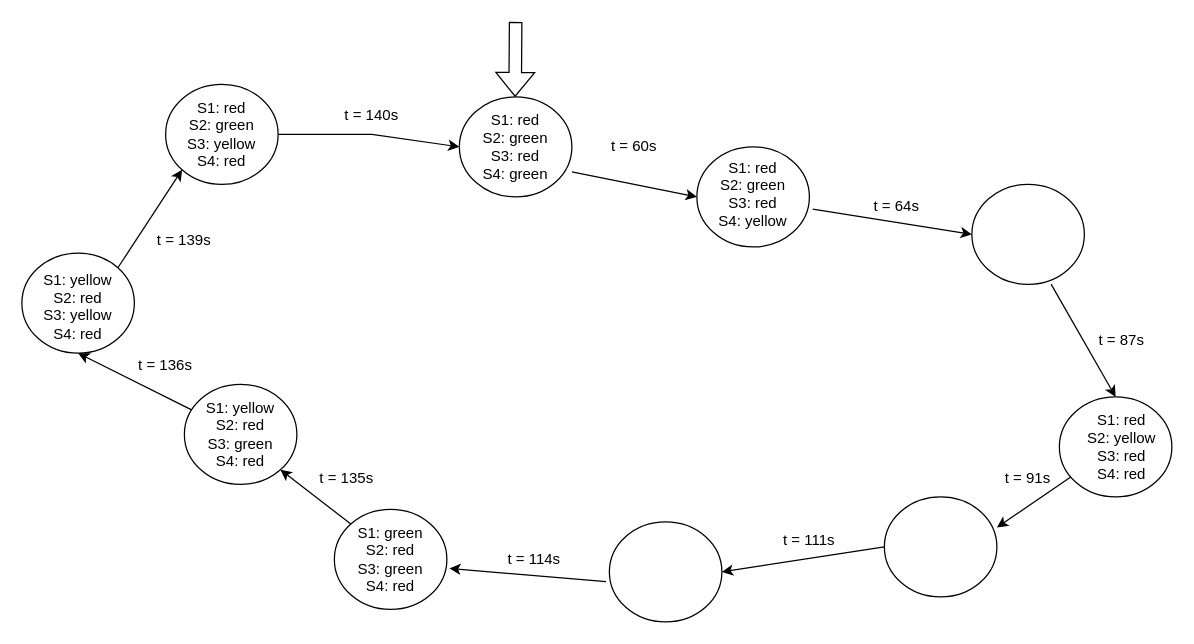
This 1194x644 diagram has some shape labels left out. The shapes that lost their labels are listed below. From the top down, each one's centre as x and y in pixels, then its label:
At (1027,233): "S1: red S2: green S3: red S4: red".
At (940,546): "S1: red S2: red S3: red S4: red".
At (665,571): "S1: red S2: red S3: green S4: red".
